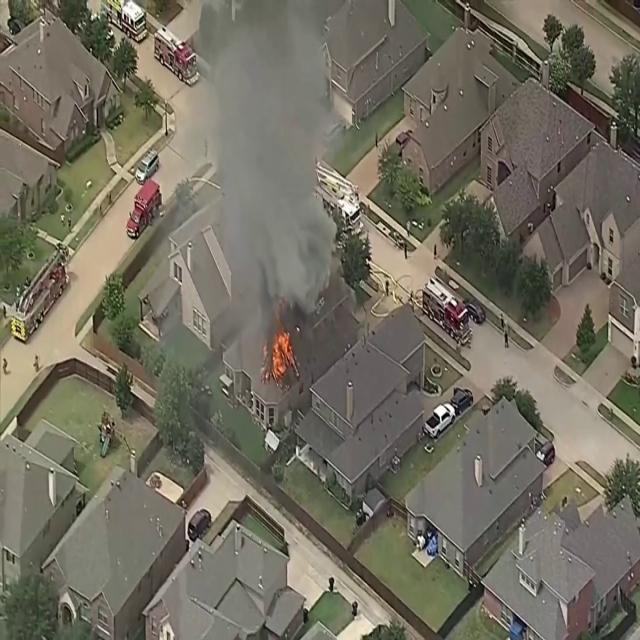Fire: (266, 315, 297, 382)
Smoke: (172, 1, 348, 340)
